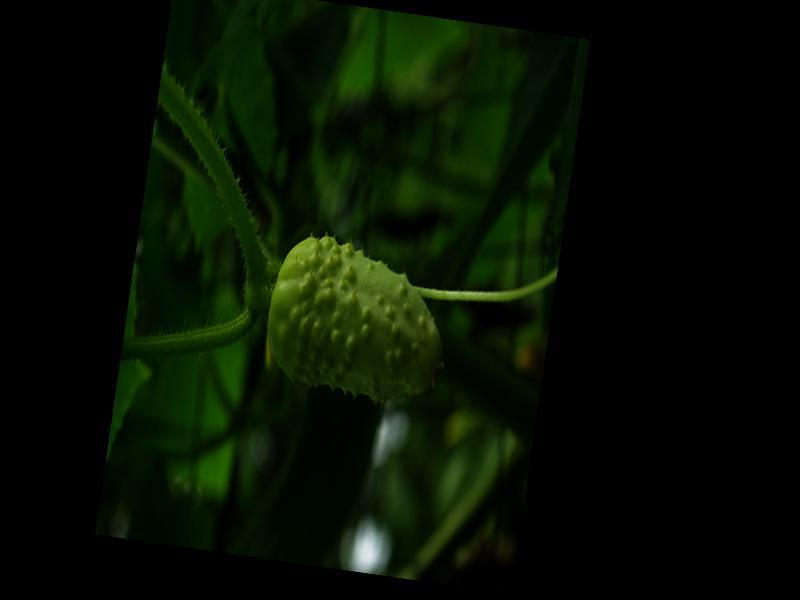Cucumber: (258, 227, 461, 407)
